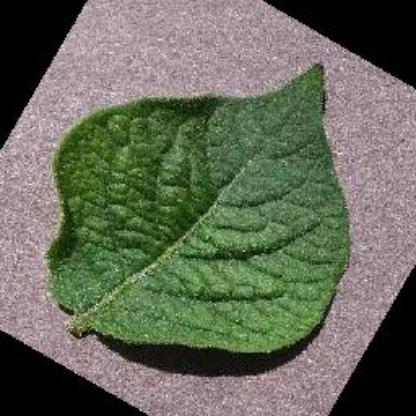Healthy-plant: (38, 57, 362, 368)
